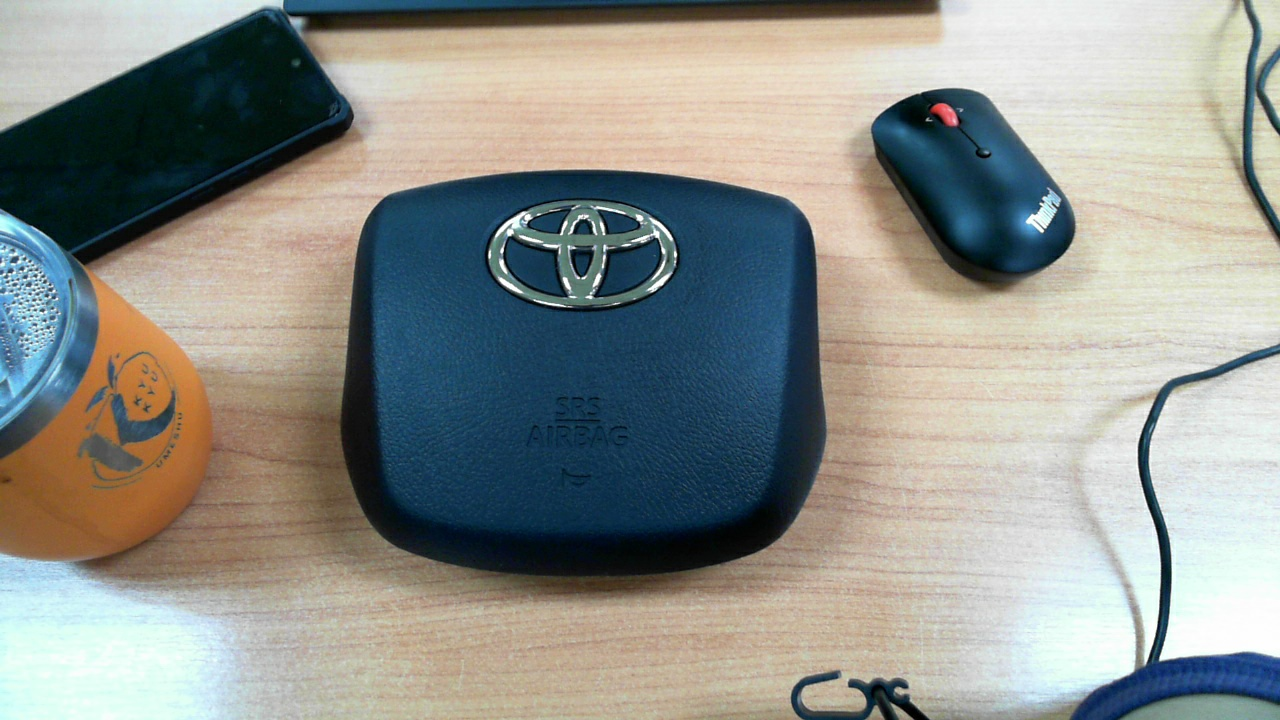Airbag: (321, 139, 859, 623)
